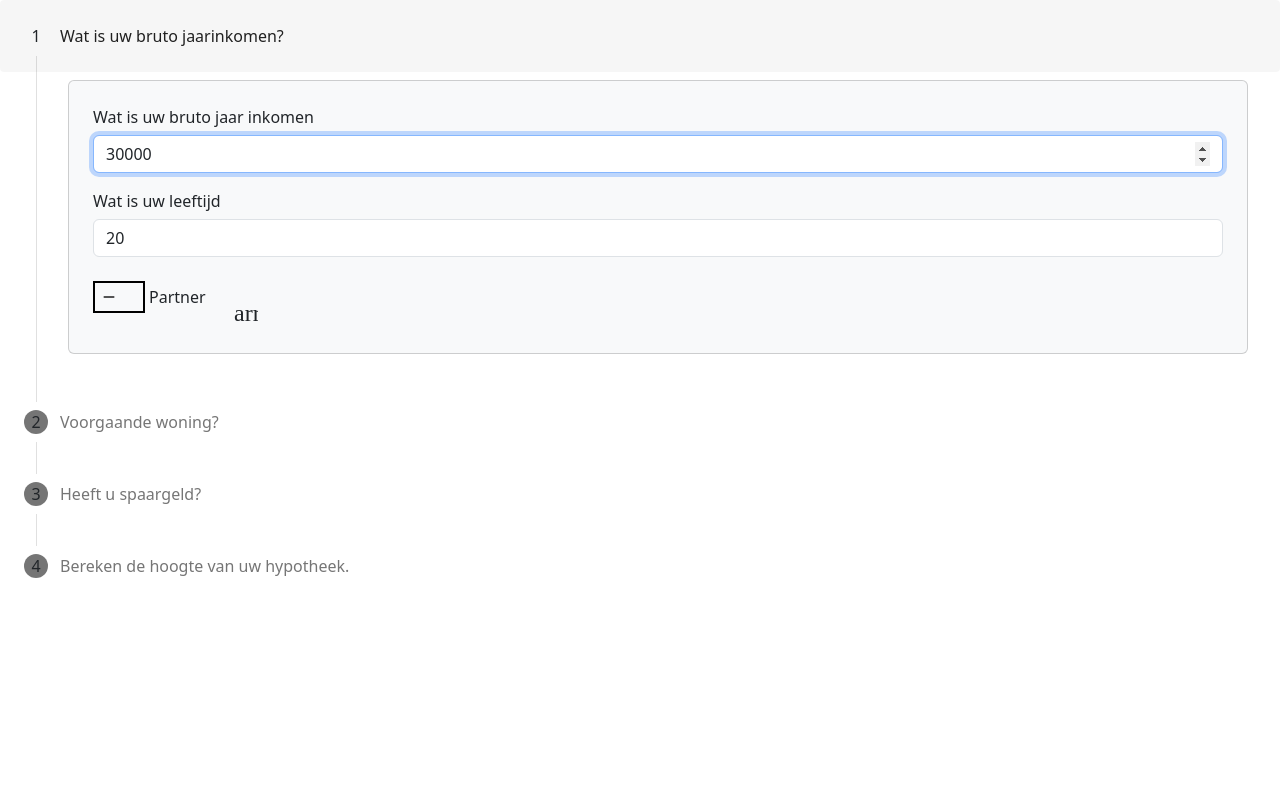
it: FormComponent › Step 1 › should show an error on bruto jaar inkomen when a invalid value is entered
The width and height of the screenshot is (1280, 800).
Clear the number field labelled "Wat is uw bruto jaar inkomen" at [658, 154], box [93,135,1223,173]
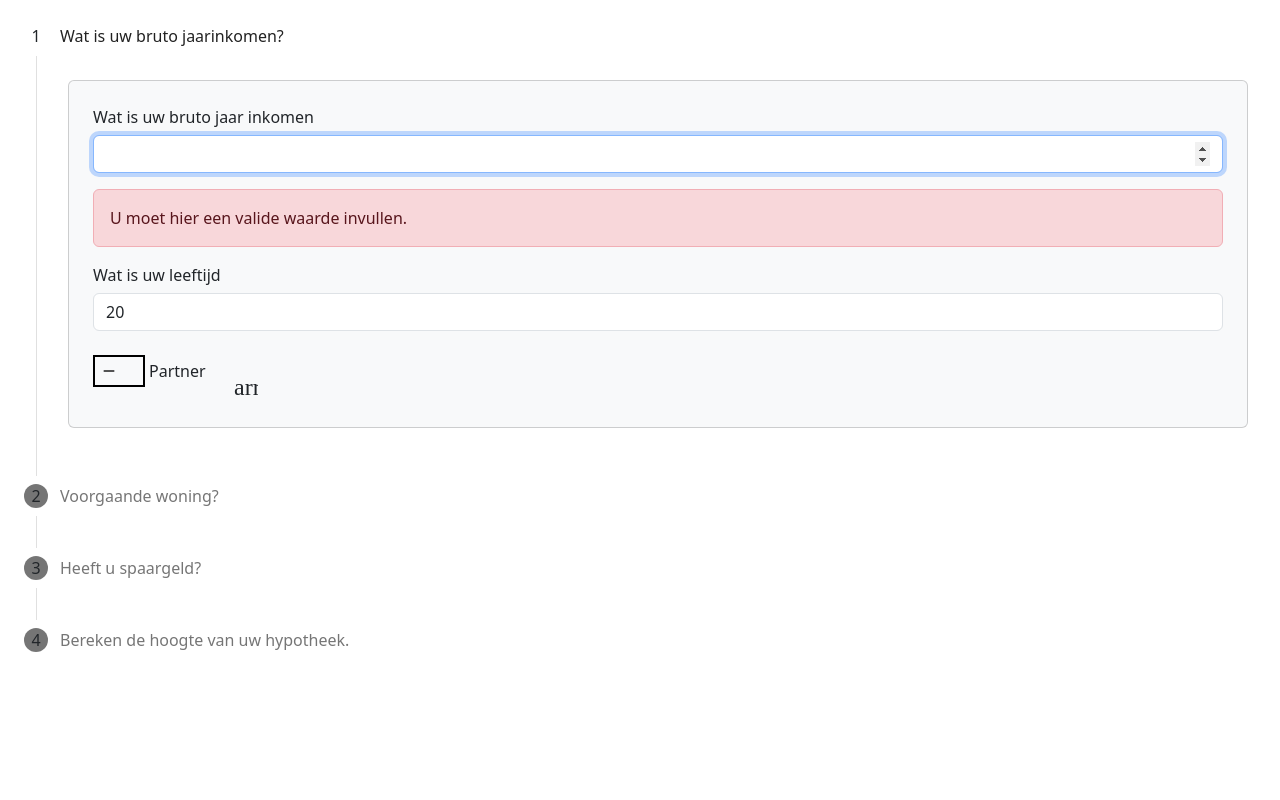
Now the text "U moet hier een valide waarde invullen." is shown, box [110,207,407,229]
